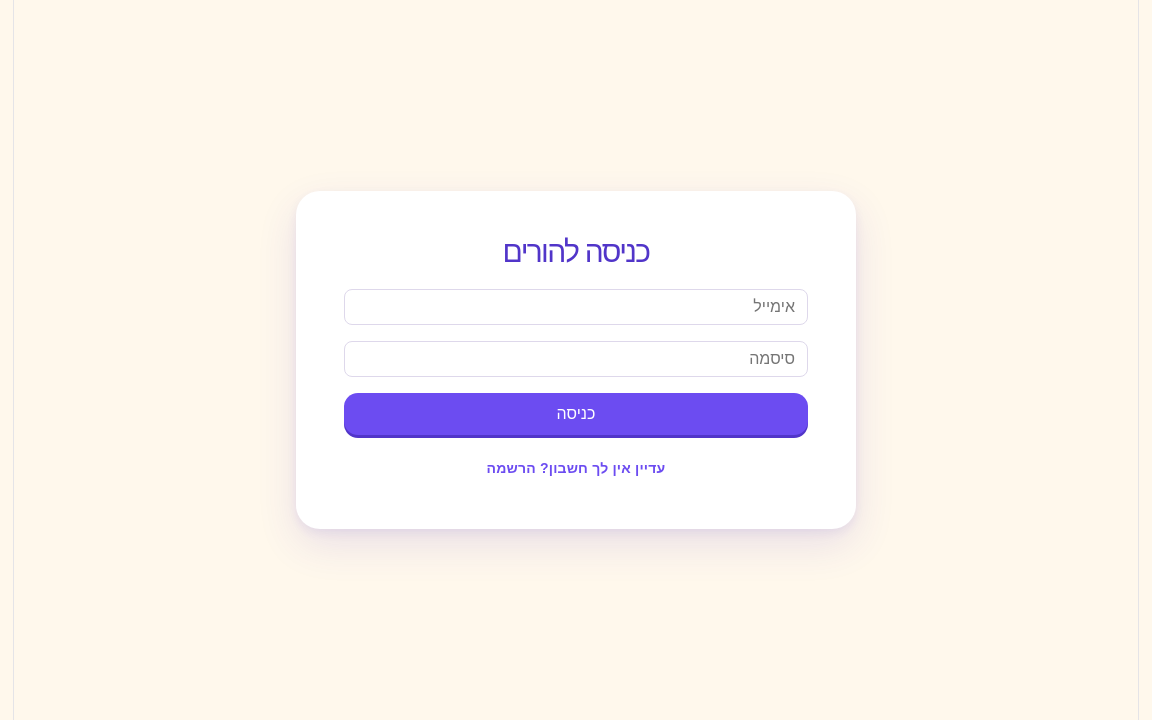
App login flow › a failed login stays on /login and shows the error message
Type "parent@example.com" into the field labelled "אימייל" at x=576, y=307, box top-left (344, 289), bottom-right (808, 325)
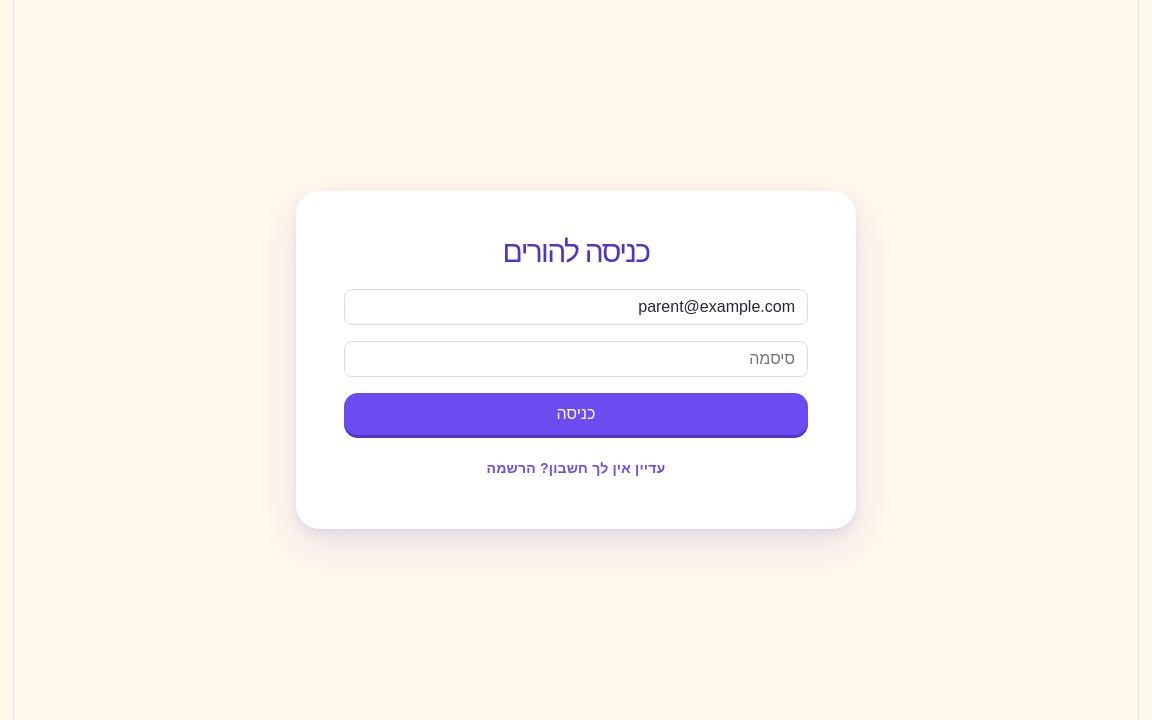
Type "wrong-password" into the password field labelled "סיסמה" at x=576, y=359, box top-left (344, 341), bottom-right (808, 377)
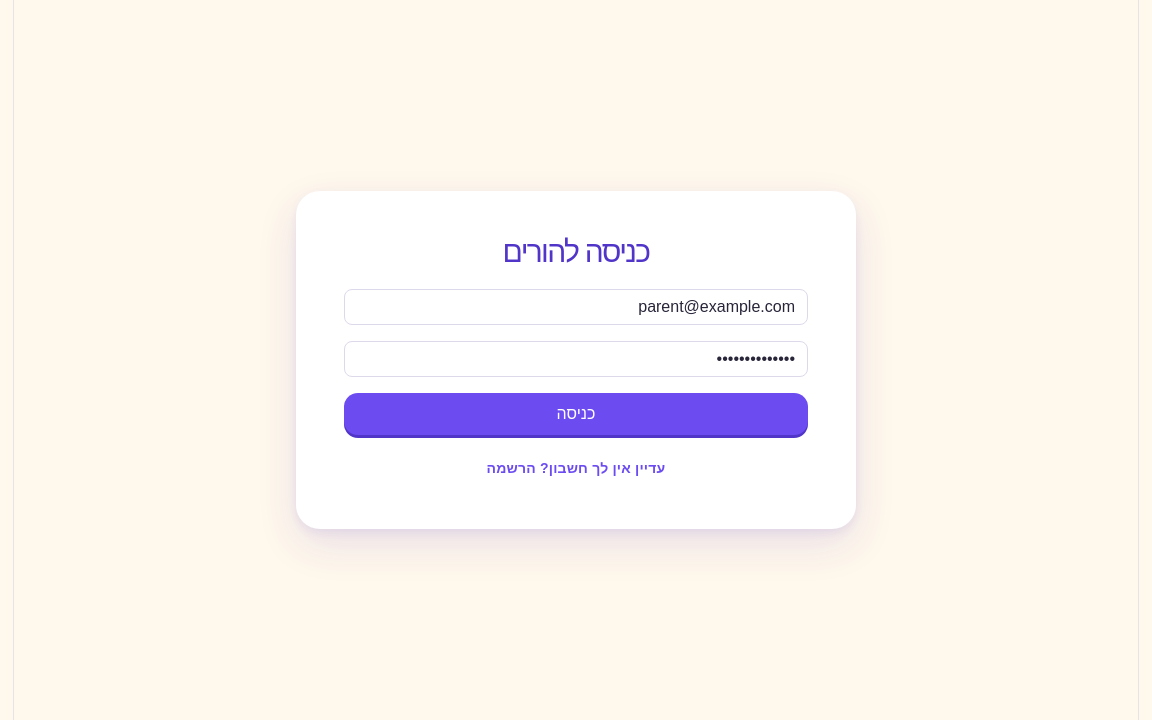
Click the button "כניסה" at x=576, y=414, box top-left (344, 393), bottom-right (808, 435)
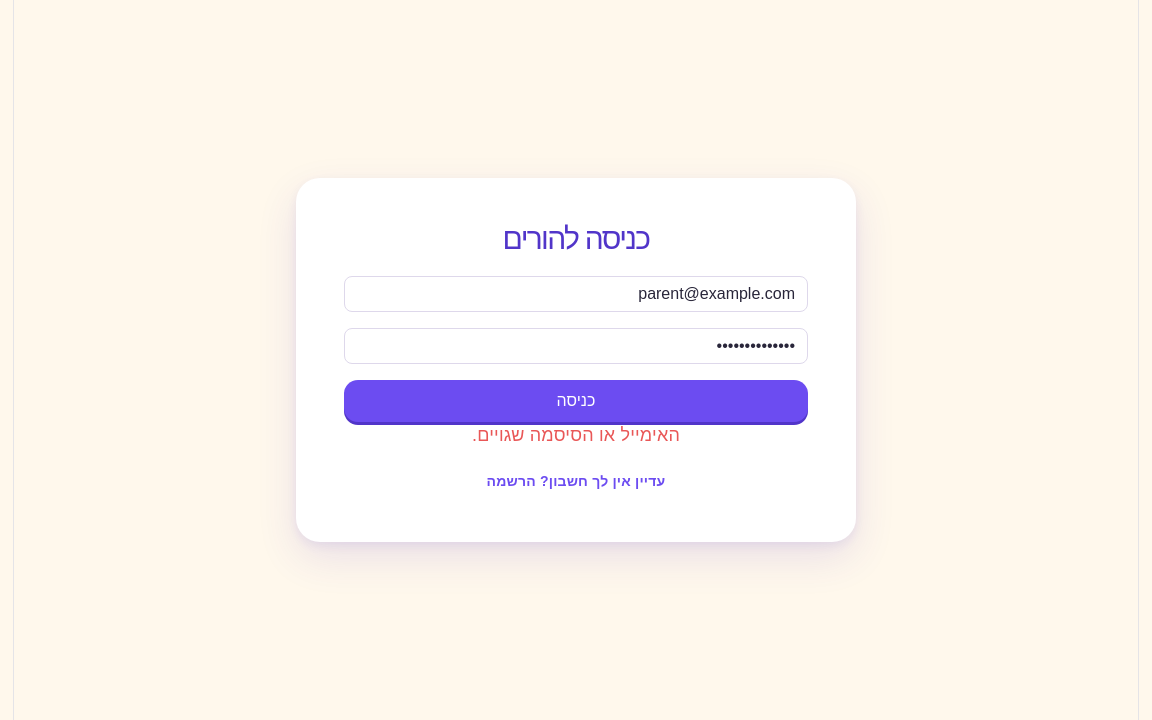
Expected: the text "האימייל או הסיסמה שגויים." is shown, top-left (472, 425), bottom-right (680, 445)
